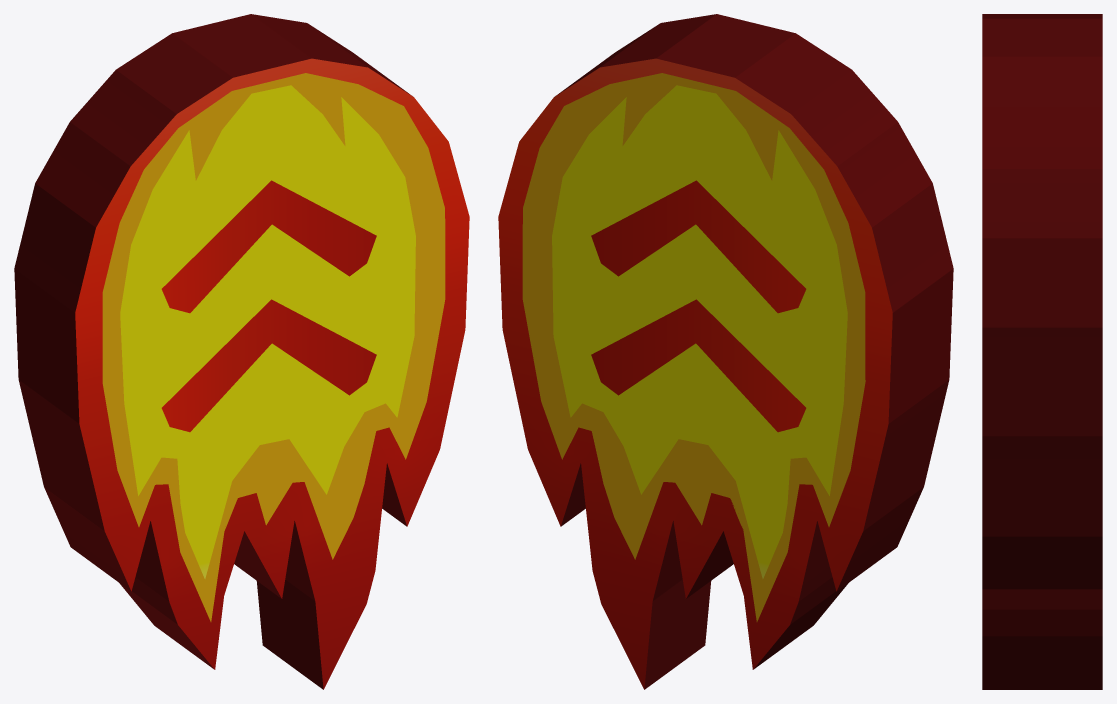
The model's file is headstart_small.glb.
3 renders of one model, left to right at view 1: azimuth 30°, elevation 25°; view 2: azimuth 150°, elevation 25°; view 3: azimuth 270°, elevation 25°, orthographic.
Visible parts, largest first — view 1: headstart_small; view 2: headstart_small; view 3: headstart_small.
Boxes of the visible parts, bbox=[...] form: headstart_small: bbox=[14, 14, 469, 689]; headstart_small: bbox=[498, 14, 953, 689]; headstart_small: bbox=[982, 14, 1102, 689].
Size of the model in its own units: 4.55 by 6.99 by 1.22.
Materials: 1 (1 with a texture image).
